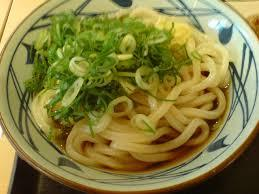bukkake: (2, 1, 258, 188)
